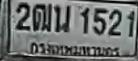1: (80, 7, 89, 33), (126, 10, 134, 36)
2: (15, 2, 29, 30), (107, 8, 121, 35)
5: (92, 7, 106, 34)
A18: (32, 3, 51, 30)
A25: (53, 3, 70, 32)
BKK: (29, 39, 122, 57)
